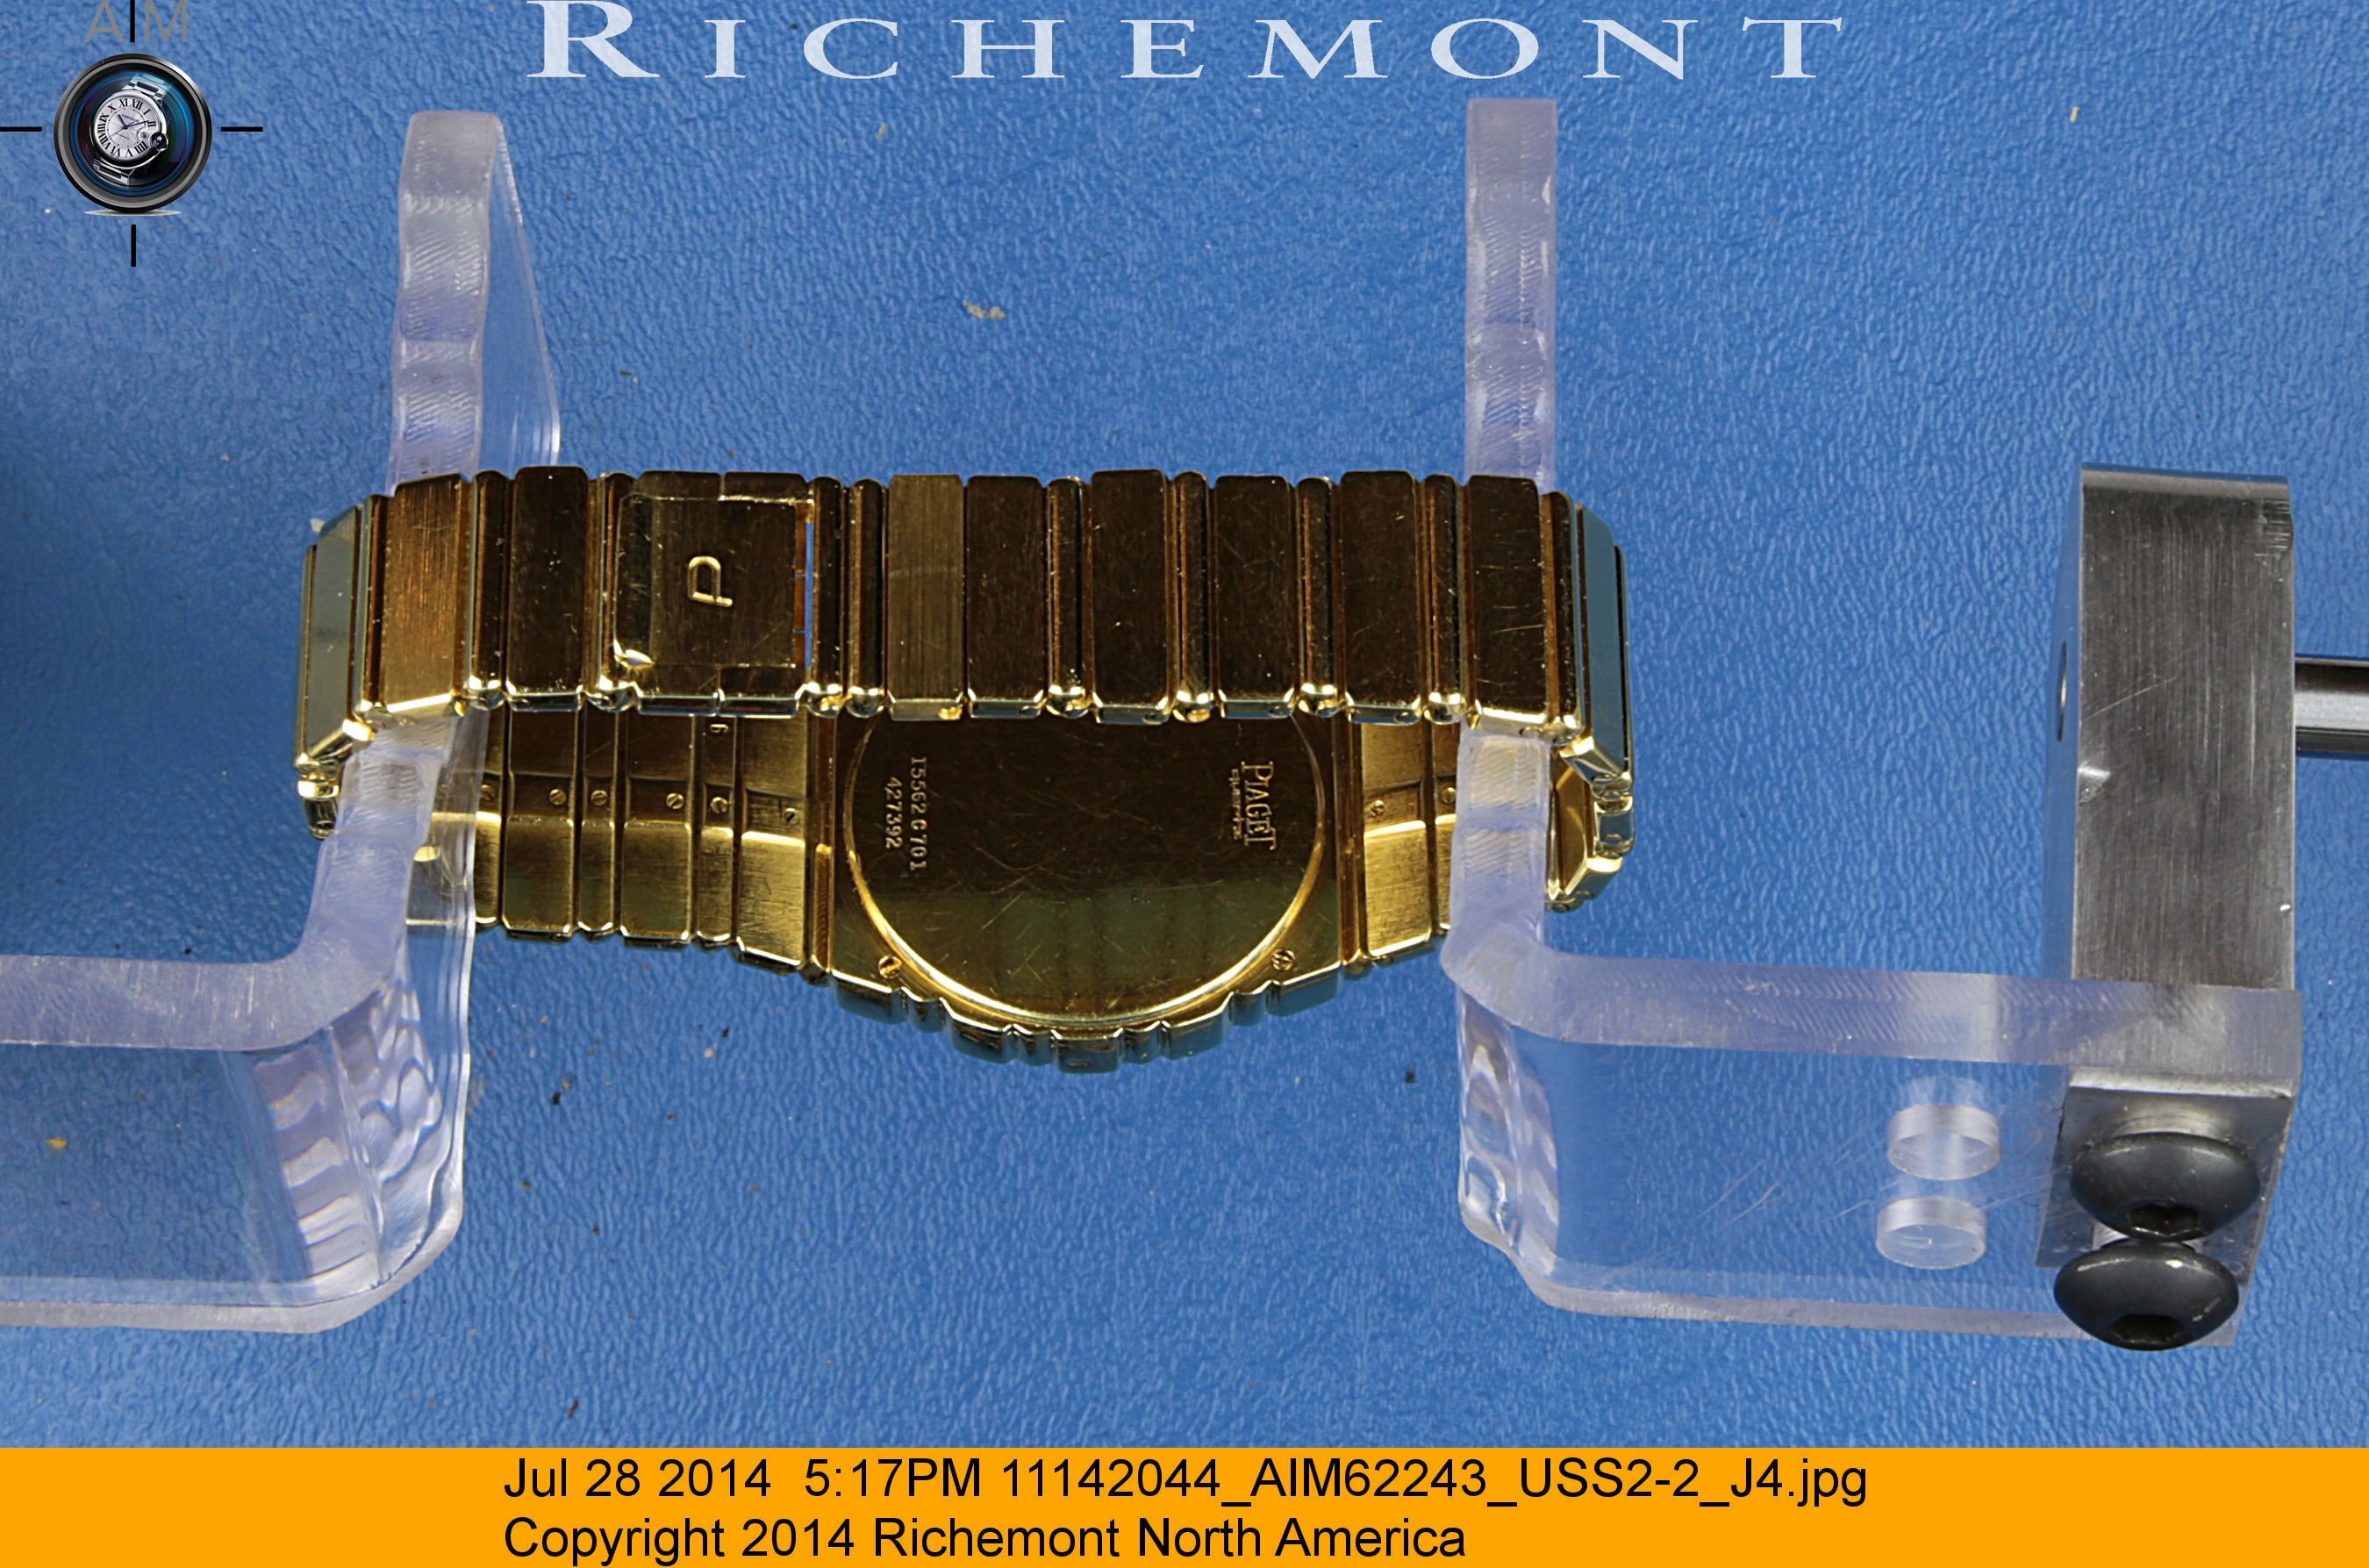Watch BackCase: (845, 724, 1366, 1090)
